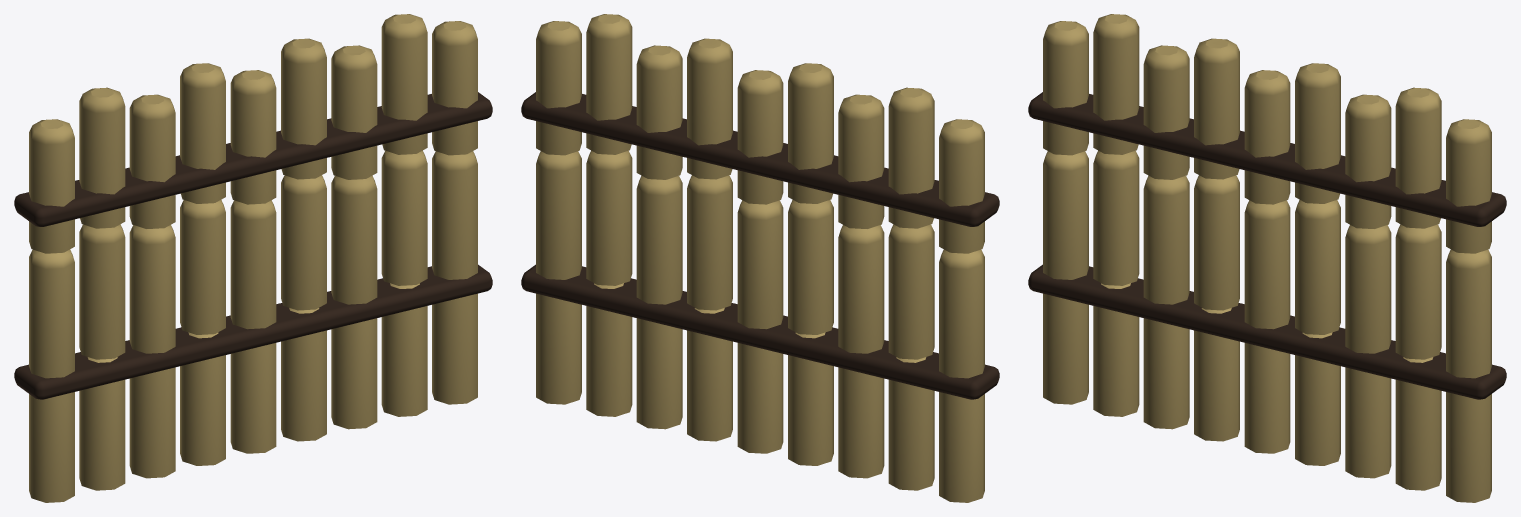
File: furn_od_fence_bamboo.glb
3 views of the same model, side by side, from view 1: azimuth 30°, elevation 25°; view 2: azimuth 150°, elevation 25°; view 3: azimuth 330°, elevation 25° (orthographic).
Parts seen in each view (by area): view 1: furn_od_fence_bamboo_main; view 2: furn_od_fence_bamboo_main; view 3: furn_od_fence_bamboo_main.
Part boxes in pixels (left/top/right/bottom): furn_od_fence_bamboo_main: left=14, top=14, right=492, bottom=502; furn_od_fence_bamboo_main: left=521, top=14, right=999, bottom=502; furn_od_fence_bamboo_main: left=1028, top=14, right=1506, bottom=502.
Bounding box in the file's own units: 1 × 0.81 × 0.1.
